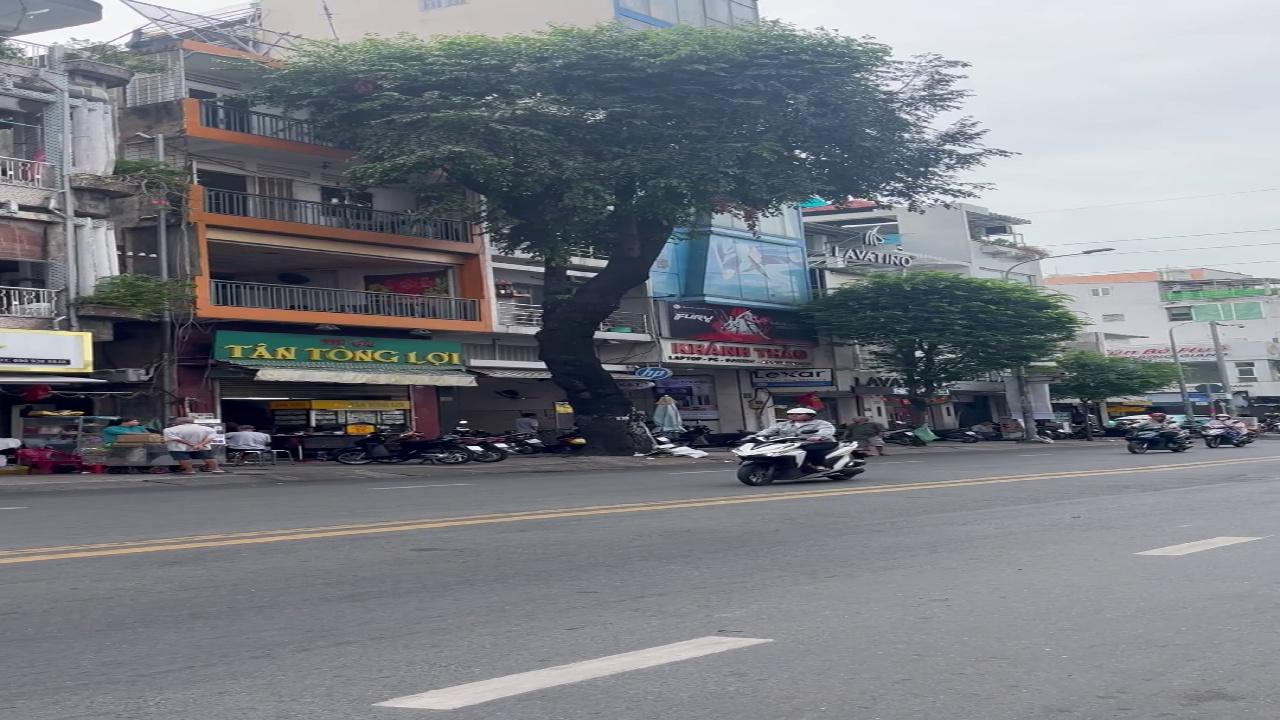Helmet: (784, 405, 817, 423), (1147, 412, 1169, 423), (1215, 413, 1232, 424)
Motor: (732, 437, 865, 485), (334, 433, 482, 464), (453, 421, 510, 462), (1127, 428, 1191, 453), (1201, 426, 1252, 447), (545, 428, 587, 453), (504, 433, 545, 454), (881, 427, 926, 446), (935, 429, 981, 443), (1259, 414, 1279, 432)
